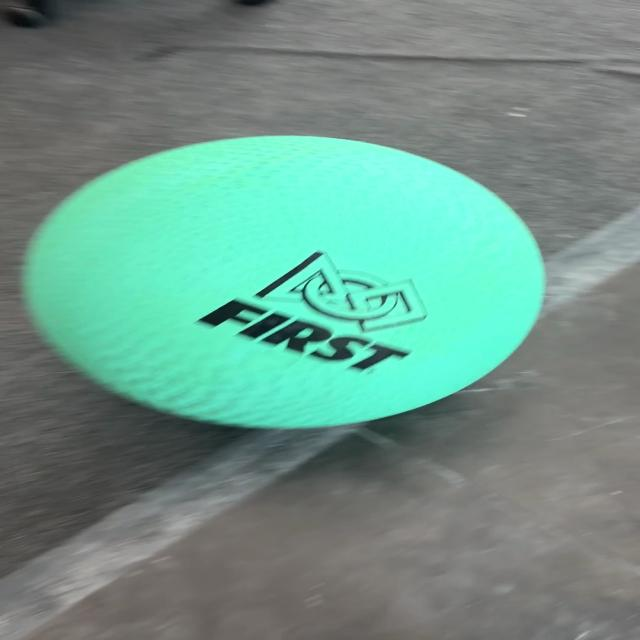Algae: (20, 134, 548, 430)
